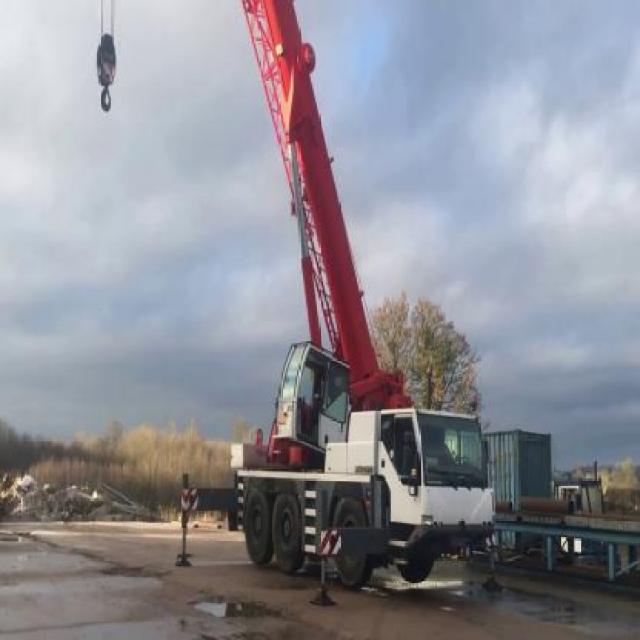Mobile Crane: (92, 1, 500, 596)
